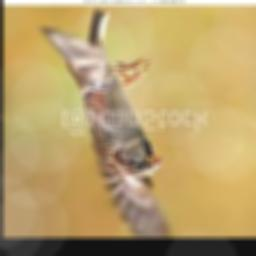Sparrow: (39, 9, 171, 238)
